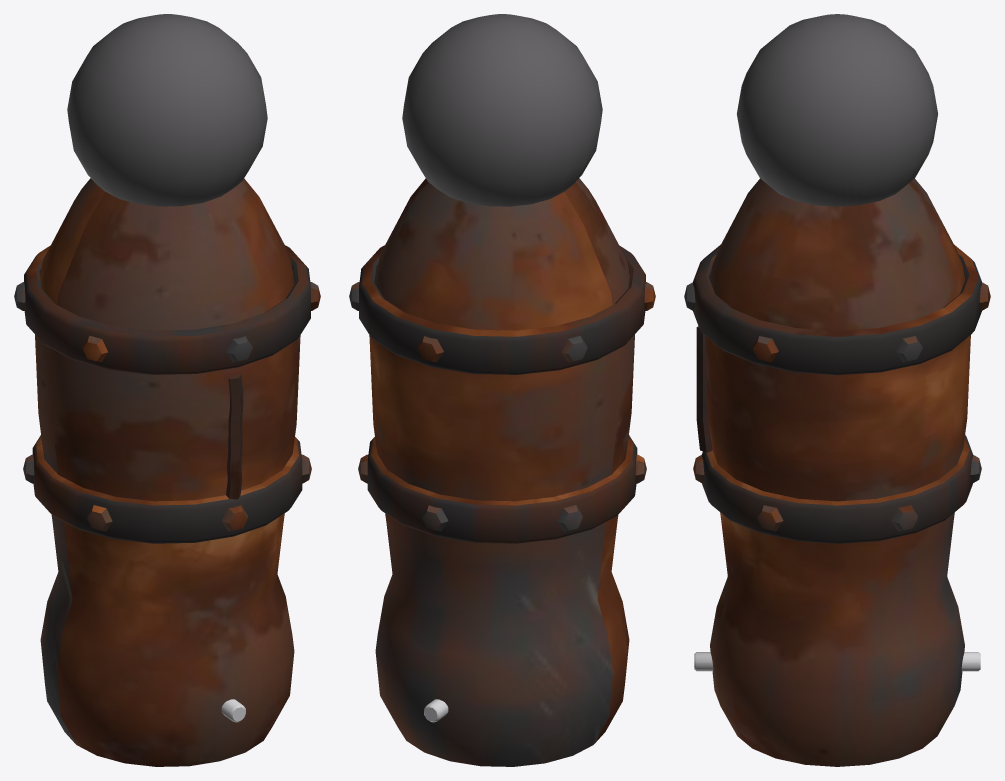
The model's file is Metal_Forearm.glb.
3 views of the same model, side by side, from view 1: azimuth 30°, elevation 25°; view 2: azimuth 150°, elevation 25°; view 3: azimuth 270°, elevation 25° (orthographic).
Parts seen in each view (by area): view 1: Metal_Forearm; view 2: Metal_Forearm; view 3: Metal_Forearm.
Boxes of the visible parts, left/top/right/bottom form: Metal_Forearm: left=14, top=14, right=320, bottom=766; Metal_Forearm: left=349, top=14, right=655, bottom=766; Metal_Forearm: left=684, top=14, right=990, bottom=766.
Bounding box in the file's own units: 0.129 × 0.3465 × 0.137.
4 materials, 2 textured.
